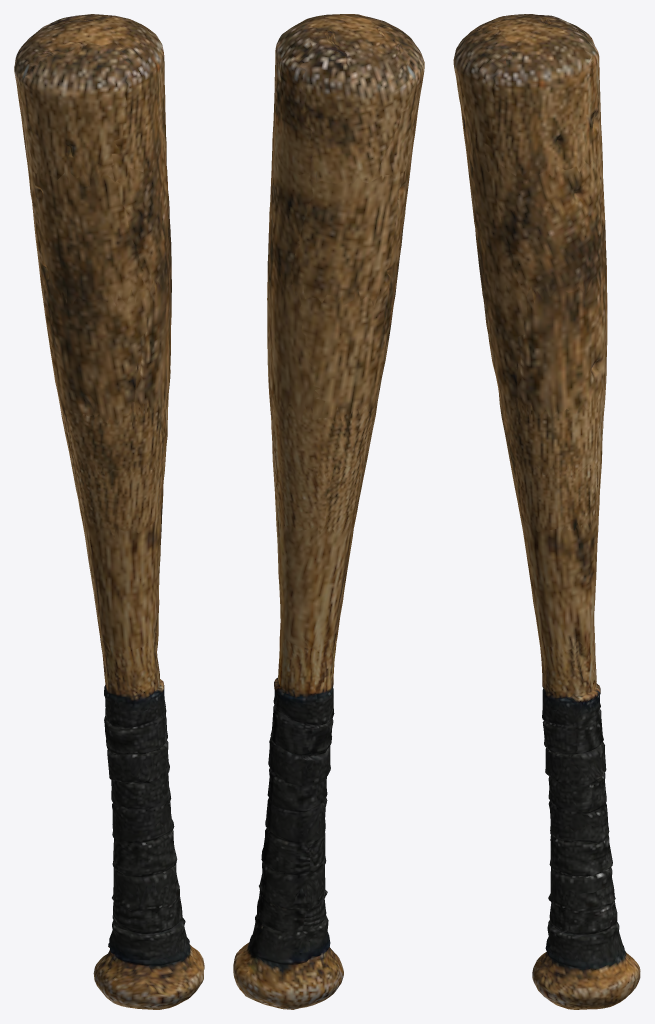
Rendered from melee_bat.13217a4b9c.glb.
The picture shows the model from 3 angles, left to right: view 1: azimuth 30°, elevation 25°; view 2: azimuth 150°, elevation 25°; view 3: azimuth 330°, elevation 25°; orthographic projection. The views are drawn at different scales.
Visible parts, largest first — view 1: melee_bat; view 2: melee_bat; view 3: melee_bat.
Boxes of the visible parts, left/top/right/bottom form: melee_bat: left=14, top=14, right=204, bottom=1009; melee_bat: left=233, top=14, right=424, bottom=1009; melee_bat: left=453, top=14, right=640, bottom=1009.
Size of the model in its own units: 0.1563 by 0.84 by 0.1086.
Materials: 1 (1 with a texture image).
